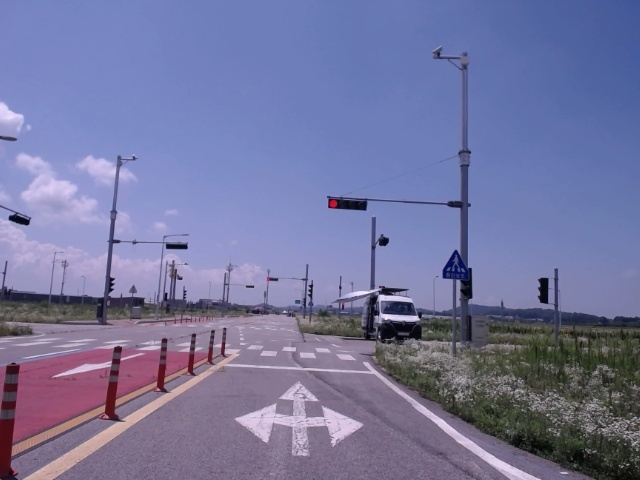red_4: (328, 199, 368, 212)
